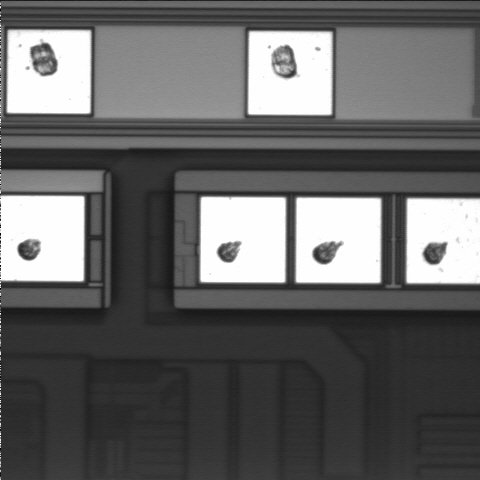pad: (200, 197, 286, 282), (296, 198, 381, 283), (7, 30, 91, 113), (248, 32, 332, 115)
